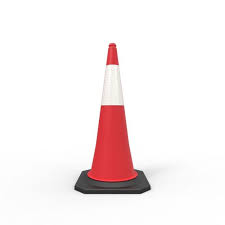cones: (75, 43, 152, 195)
